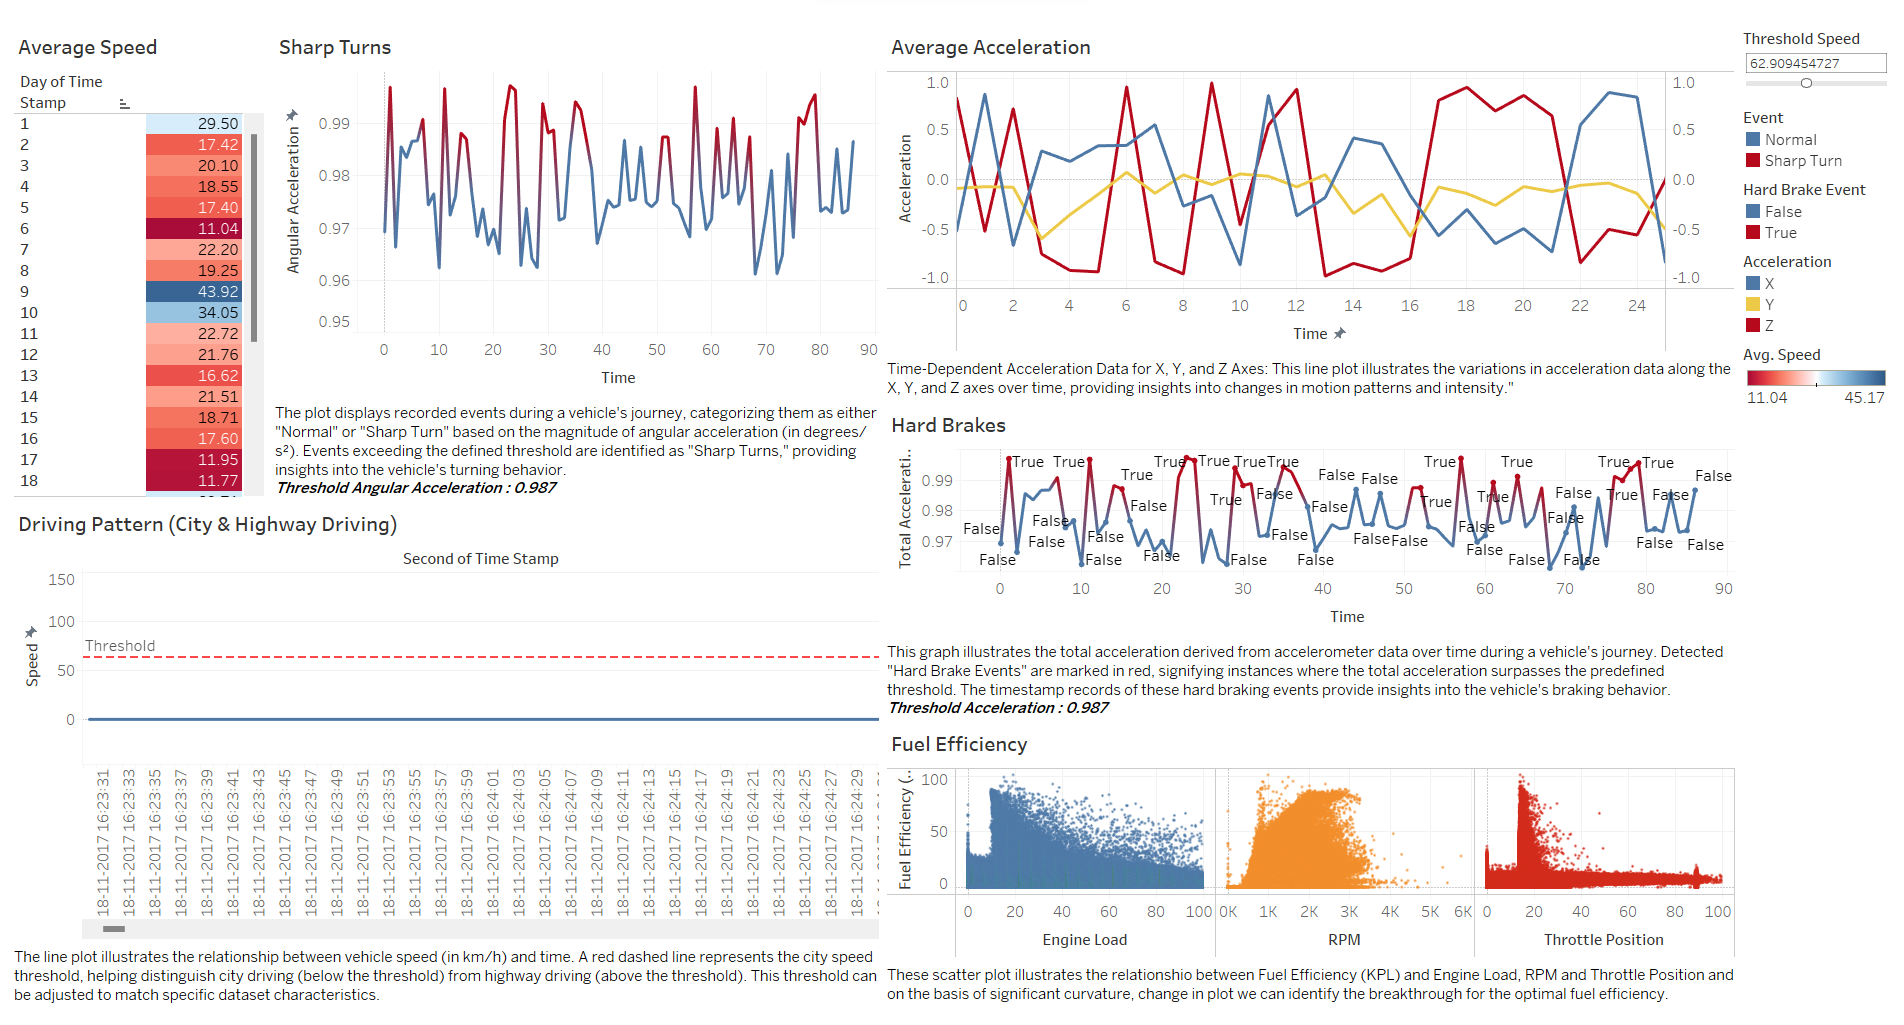

The page's visual inventory and layout, read from the dashboard file:
{"tool":"tableau","page":{"name":"Dashboard","canvas":[1900,1000],"ordinal":0},"visuals":[{"type":"worksheet","title":"Average Speed","mark":"Square","rows":["timeStamp"],"box":[8,8,260.7,477]},{"type":"worksheet","title":"Sharp Turns","mark":"Automatic","rows":["angular_acceleration"],"cols":["F1"],"box":[268.7,8,612.8,477]},{"type":"worksheet","title":"Average Acceleration","mark":"Automatic","rows":["x"],"cols":["F1"],"box":[881.5,8,855.5,378]},{"type":"parameter","param":"[Parameters].[Parameter 2]","box":[1737,8,155,79]},{"type":"legend","title":"Sharp Turns","param":"[federated.1ej2czx00l5pm312bqtba1jca4fb].[attr:event:nk]","box":[1737,87,155,72]},{"type":"legend","title":"Hard Brakes","param":"[federated.1ej2czx00l5pm312bqtba1jca4fb].[attr:hard_brake_event:nk]","box":[1737,159,155,72]},{"type":"legend","title":"Average Acceleration","param":"[federated.1ej2czx00l5pm312bqtba1jca4fb].[:Measure Names]","box":[1737,231,155,93]},{"type":"legend","title":"Average Speed","param":"[federated.1j0ncx80dejv1q1cw2niq1wjchip].[avg:speed:qk]","box":[1737,324,155,75]},{"type":"worksheet","title":"Hard Brakes","mark":"Automatic","rows":["total_acceleration"],"cols":["F1"],"box":[881.5,386,855.5,319]},{"type":"worksheet","title":"Driving Pattern","mark":"Automatic","rows":["speed"],"cols":["timeStamp"],"box":[8,485,873.5,507]},{"type":"worksheet","title":"Fuel Efficiency","mark":"Circle","rows":["kpl"],"cols":["eLoad","rpm","tPos"],"box":[881.5,705,855.5,287]}]}

Visuals, with their boxes in screenshot pixels (x1, y1, x2, y2), scaled from the page's 1900x1000 canvas onto the 1904x1025 screenshot:
"Average Speed" worksheet (Square marks): x1=8 y1=8 x2=269 y2=497
"Sharp Turns" worksheet: x1=269 y1=8 x2=883 y2=497
"Average Acceleration" worksheet: x1=883 y1=8 x2=1741 y2=396
parameter: x1=1741 y1=8 x2=1896 y2=89
"Sharp Turns" legend: x1=1741 y1=89 x2=1896 y2=163
"Hard Brakes" legend: x1=1741 y1=163 x2=1896 y2=237
"Average Acceleration" legend: x1=1741 y1=237 x2=1896 y2=332
"Average Speed" legend: x1=1741 y1=332 x2=1896 y2=409
"Hard Brakes" worksheet: x1=883 y1=396 x2=1741 y2=723
"Driving Pattern" worksheet: x1=8 y1=497 x2=883 y2=1017
"Fuel Efficiency" worksheet (Circle marks): x1=883 y1=723 x2=1741 y2=1017
